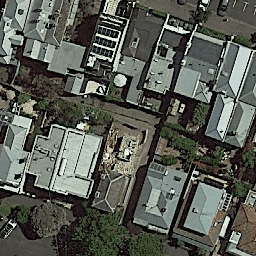car: (1, 217, 19, 241), (217, 1, 230, 18), (197, 1, 211, 14)
